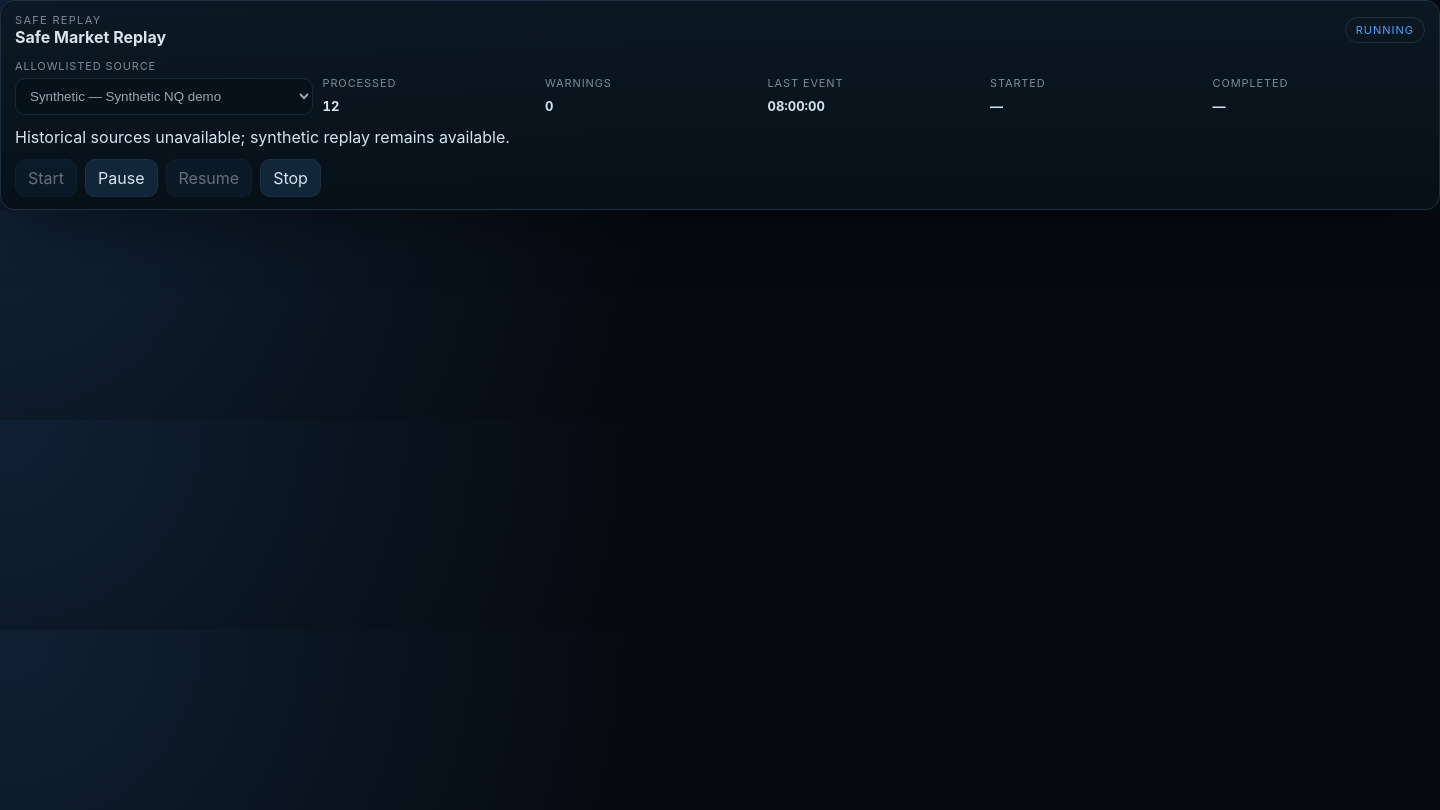
Test: ReplayControls › enables pause resume and stop according to replay state
The image size is (1440, 810).
Expected: the button "Start" is disabled, [15,159,77,197]
Expected: the button "Resume" is disabled, [166,159,252,197]
Click the button "Pause" at (121, 178), box [85,159,158,197]
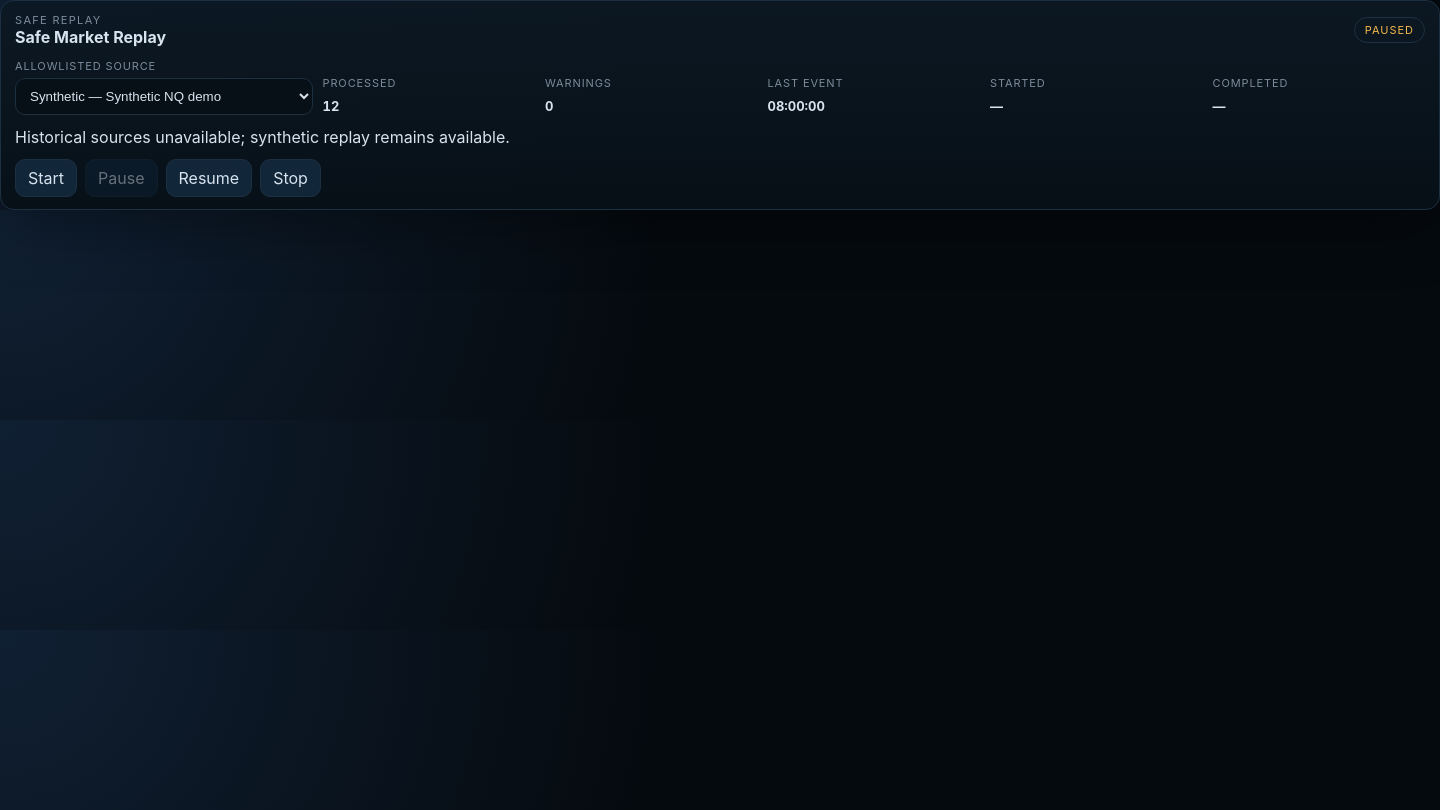
Expected: the button "Resume" is enabled
Expected: the button "Pause" is disabled, [85,159,158,197]
Click the button "Resume" at (209, 178), box [166,159,252,197]
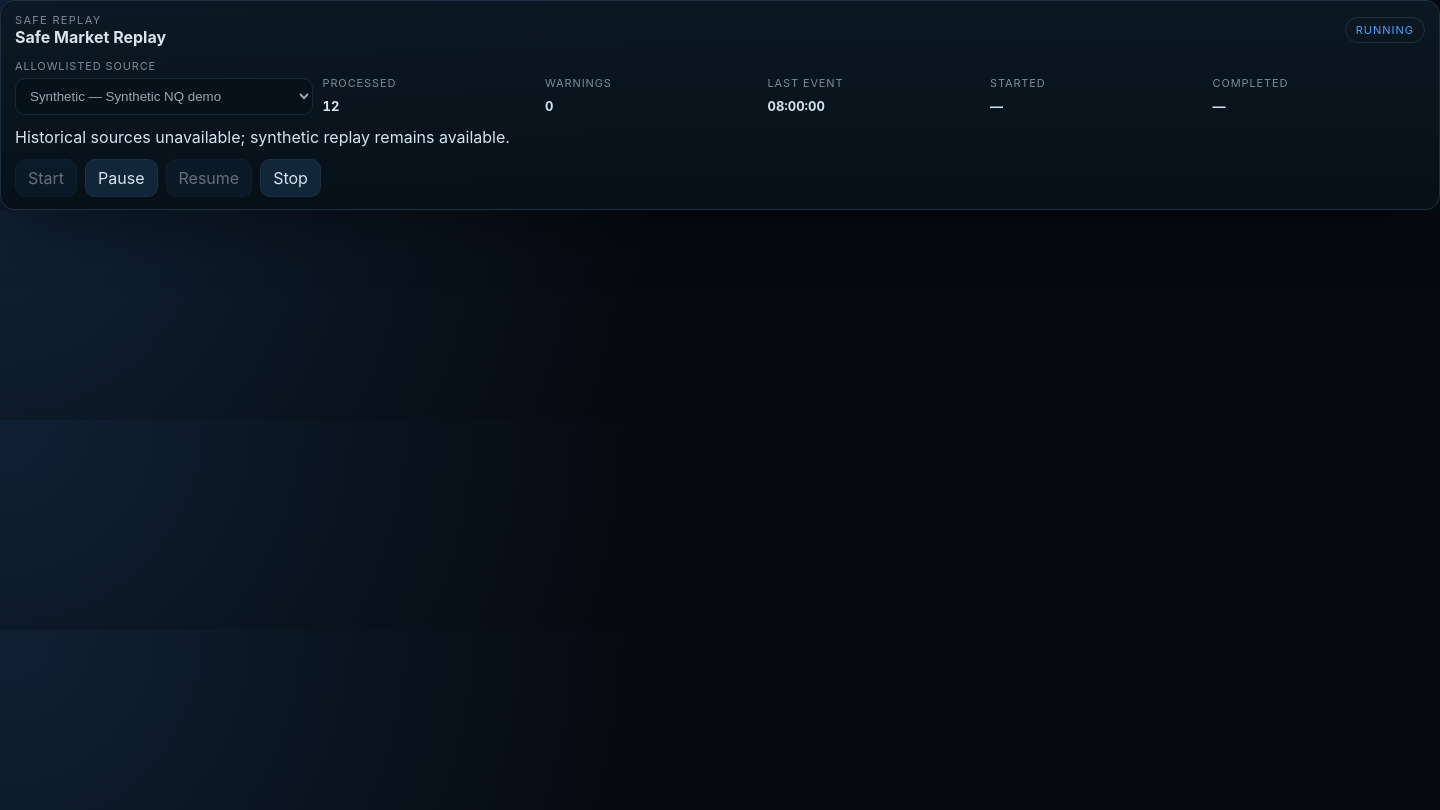
Expected: the button "Pause" is enabled, [85,159,158,197]
Click the button "Stop" at (291, 178), box [260,159,321,197]
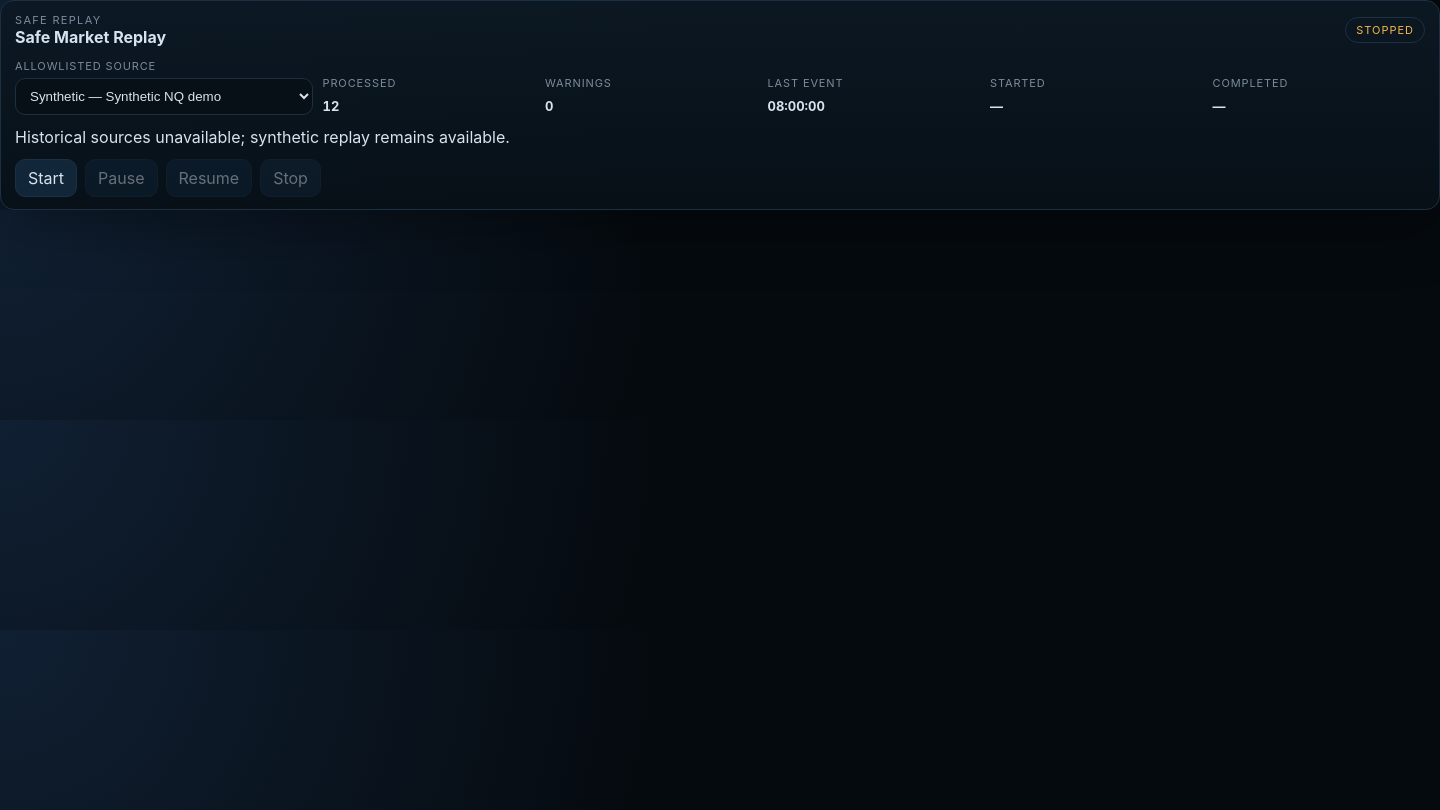
Expected: the button "Start" is enabled, [15,159,77,197]
